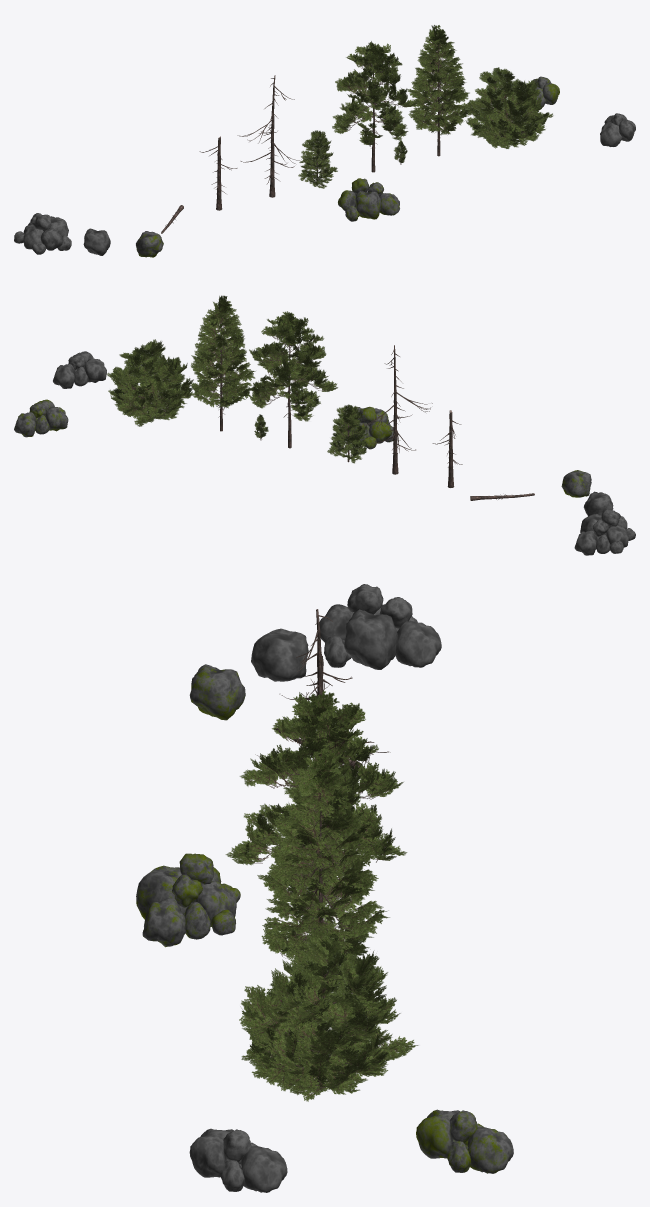
The model's file is conifer_pack.glb.
The picture shows the model from 3 angles, top to bottom: view 1: azimuth 30°, elevation 25°; view 2: azimuth 150°, elevation 25°; view 3: azimuth 270°, elevation 25°; orthographic projection. The views are drawn at different scales.
Visible parts, largest first — view 1: PineTree_1, ConiferousShrub_3, FirTree_0, BoulderOutcropMossyLarge_9, BoulderOutcropPlainLarge_11, NobleFirTree_2, BoulderOutcropPlainMedium_12, Coniferous Dead Tree_6, BoulderPlainLarge_13, BoulderMossyLarge_8, BoulderOutcropMossyMedium_10, Coniferous Dead Tree 2_7; view 2: PineTree_1, FirTree_0, ConiferousShrub_3, BoulderOutcropPlainLarge_11, NobleFirTree_2, BoulderOutcropMossyMedium_10, BoulderOutcropPlainMedium_12, BoulderOutcropMossyLarge_9, Coniferous Dead Tree_6, BoulderMossyLarge_8, BoulderPlainLarge_13, Coniferous Dead Tree 2_7; view 3: ConiferousShrub_3, FirTree_0, PineTree_1, BoulderOutcropPlainLarge_11, BoulderOutcropMossyLarge_9, BoulderOutcropPlainMedium_12, BoulderOutcropMossyMedium_10, BoulderPlainLarge_13, BoulderMossyLarge_8.
Boxes of the visible parts, left/top/right/bottom form: PineTree_1: left=332, top=41, right=418, bottom=172; ConiferousShrub_3: left=461, top=67, right=553, bottom=148; FirTree_0: left=408, top=25, right=470, bottom=156; BoulderOutcropMossyLarge_9: left=338, top=178, right=399, bottom=221; BoulderOutcropPlainLarge_11: left=14, top=213, right=71, bottom=254; NobleFirTree_2: left=298, top=130, right=337, bottom=188; BoulderOutcropPlainMedium_12: left=600, top=113, right=635, bottom=146; Coniferous Dead Tree_6: left=237, top=75, right=301, bottom=197; BoulderPlainLarge_13: left=83, top=228, right=110, bottom=255; BoulderMossyLarge_8: left=136, top=231, right=163, bottom=257; BoulderOutcropMossyMedium_10: left=526, top=76, right=559, bottom=110; Coniferous Dead Tree 2_7: left=199, top=136, right=237, bottom=210; PineTree_1: left=246, top=311, right=337, bottom=448; FirTree_0: left=190, top=295, right=255, bottom=431; ConiferousShrub_3: left=107, top=339, right=193, bottom=426; BoulderOutcropPlainLarge_11: left=574, top=509, right=635, bottom=555; NobleFirTree_2: left=327, top=404, right=367, bottom=463; BoulderOutcropMossyMedium_10: left=14, top=399, right=68, bottom=437; BoulderOutcropPlainMedium_12: left=53, top=351, right=106, bottom=388; BoulderOutcropMossyLarge_9: left=342, top=406, right=393, bottom=449; Coniferous Dead Tree_6: left=361, top=345, right=432, bottom=474; BoulderMossyLarge_8: left=561, top=470, right=591, bottom=497; BoulderPlainLarge_13: left=583, top=491, right=613, bottom=516; Coniferous Dead Tree 2_7: left=432, top=410, right=462, bottom=487; ConiferousShrub_3: left=239, top=928, right=418, bottom=1101; FirTree_0: left=257, top=747, right=389, bottom=962; PineTree_1: left=225, top=688, right=407, bottom=919; BoulderOutcropPlainLarge_11: left=319, top=584, right=441, bottom=669; BoulderOutcropMossyLarge_9: left=136, top=853, right=240, bottom=947; BoulderOutcropPlainMedium_12: left=189, top=1128, right=287, bottom=1192; BoulderOutcropMossyMedium_10: left=416, top=1109, right=513, bottom=1173; BoulderPlainLarge_13: left=251, top=628, right=308, bottom=681; BoulderMossyLarge_8: left=189, top=664, right=245, bottom=720.
Bounding box in the file's own units: 80.07 × 18.97 × 22.68.
9 materials, 9 textured.
